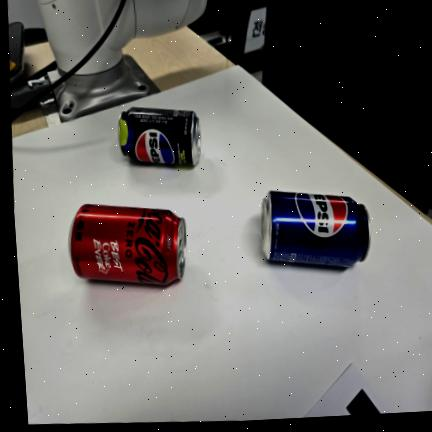can_coke_zero: (69, 205, 186, 285)
can_pepsi: (261, 191, 372, 267)
can_pepsi_zero: (118, 107, 201, 166)
